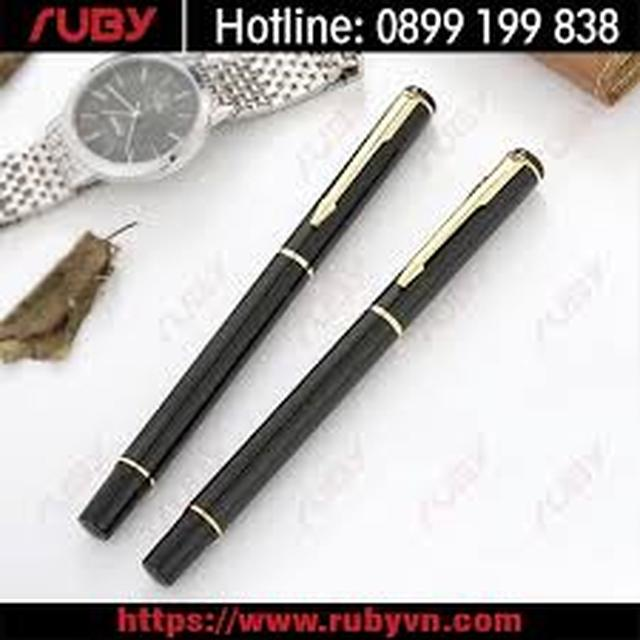pen: (139, 124, 555, 593), (50, 82, 446, 553)
